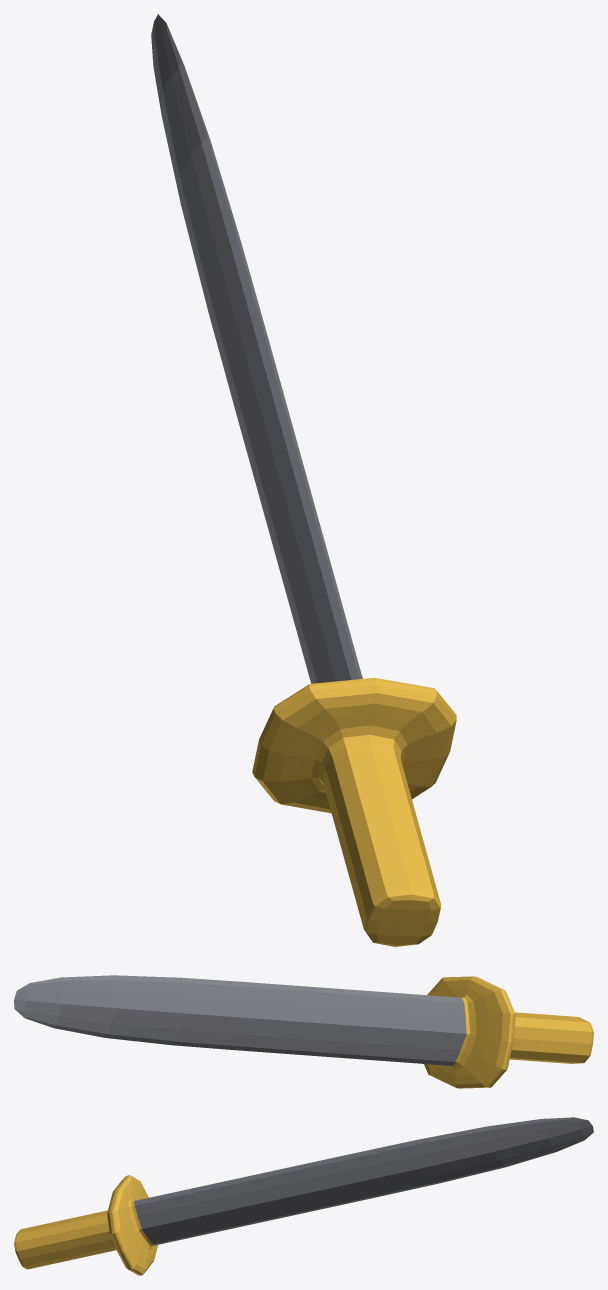
File: Sword.fbx
3 views of the same model, one above another, from view 1: azimuth 30°, elevation 25°; view 2: azimuth 150°, elevation 25°; view 3: azimuth 270°, elevation 25° (orthographic). The views are drawn at different scales.
Parts seen in each view (by area): view 1: Cube.001; view 2: Cube.001; view 3: Cube.001.
Part boxes in pixels (x1,y1,x2,y2): Cube.001: [151, 14, 456, 946]; Cube.001: [14, 975, 593, 1088]; Cube.001: [14, 1117, 593, 1275].
Size of the model in its own units: 115 by 141 by 330.
